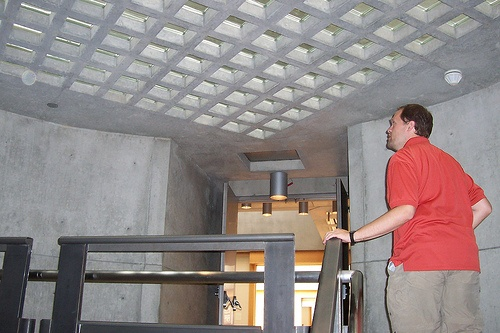head: (387, 103, 435, 150)
person: (324, 101, 495, 332)
